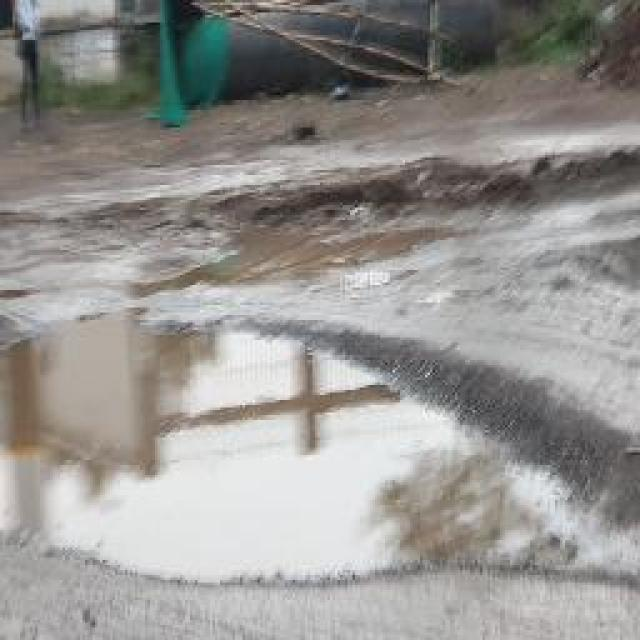stagnation: (1, 298, 632, 614)
